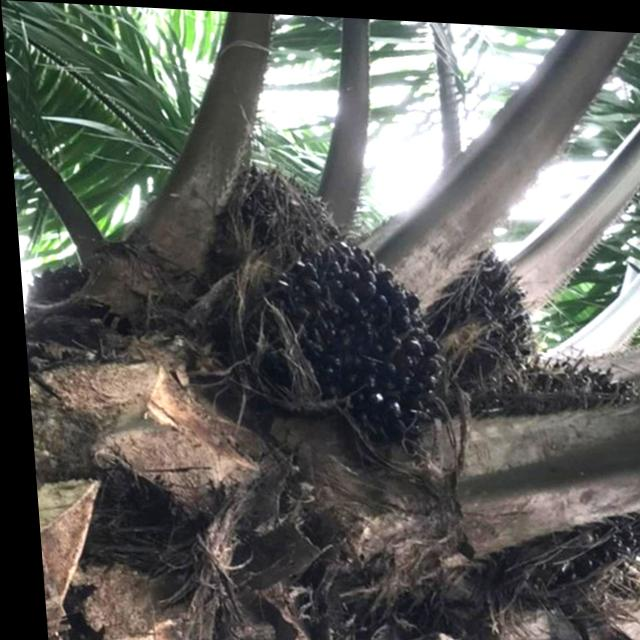almost: (228, 218, 451, 468)
